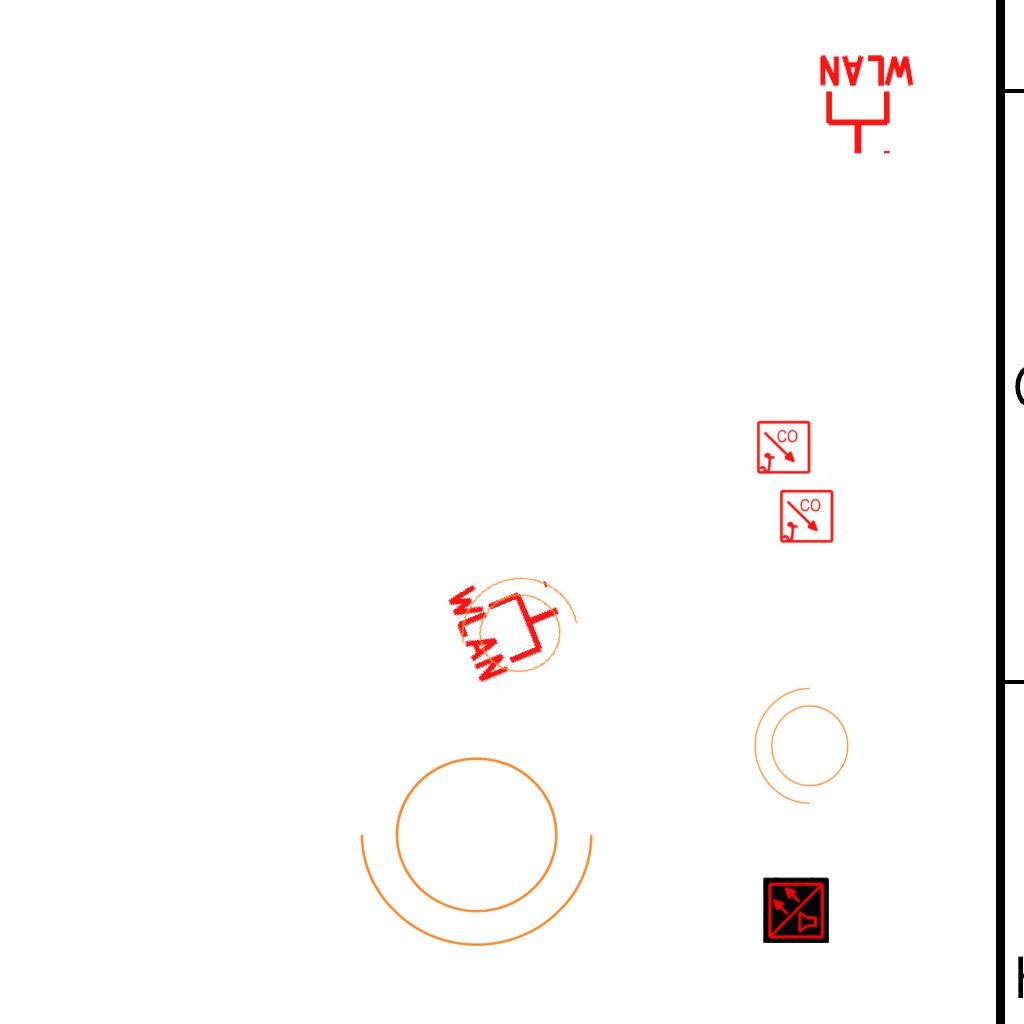OKW_Multisensormelder_(Kombination_optischer_Rauch-Kahlenmonoxid_Waerme-Melder): (763, 877, 829, 943)
ROA_Rauchmelder_optisch_mit_Signalgeber_(Sockelsirene): (756, 420, 812, 476), (779, 489, 835, 545)
Scheinwerfer_fuer_Alarmbeleuchtung: (351, 732, 615, 957), (441, 562, 591, 696), (749, 683, 861, 815)
WLAN: (441, 552, 578, 688), (815, 53, 919, 158)
